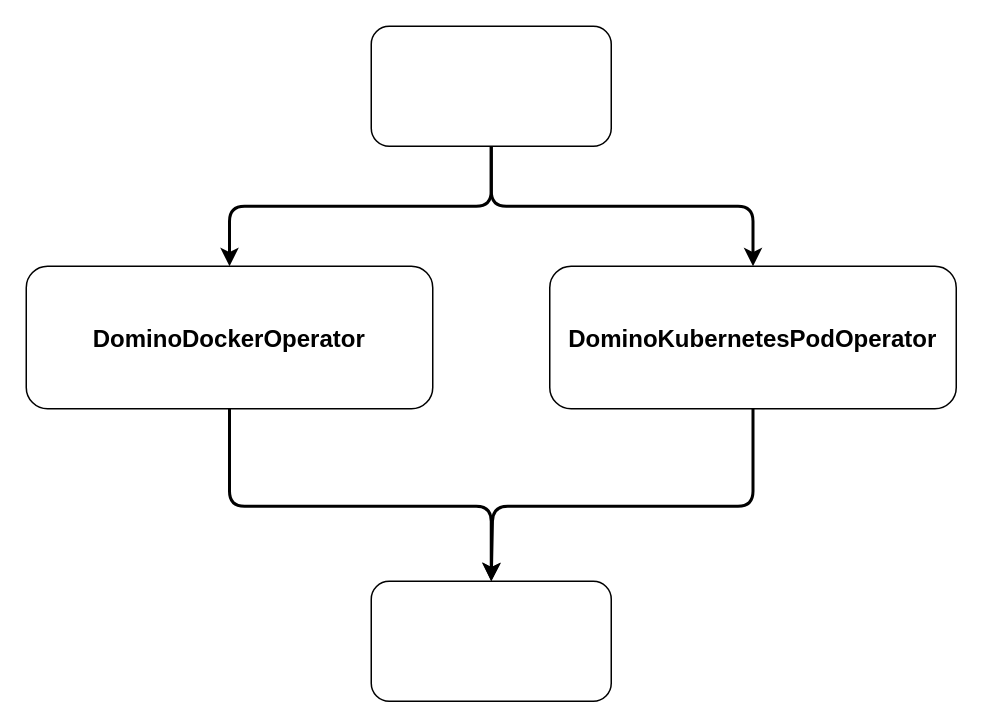
This 983x728 diagram has some shape labels left out. Here are the shapes that lost their labels. From the top down, the centre of each, then its label:
point 490,85: Domino Task
point 490,640: Execute Piece Function
